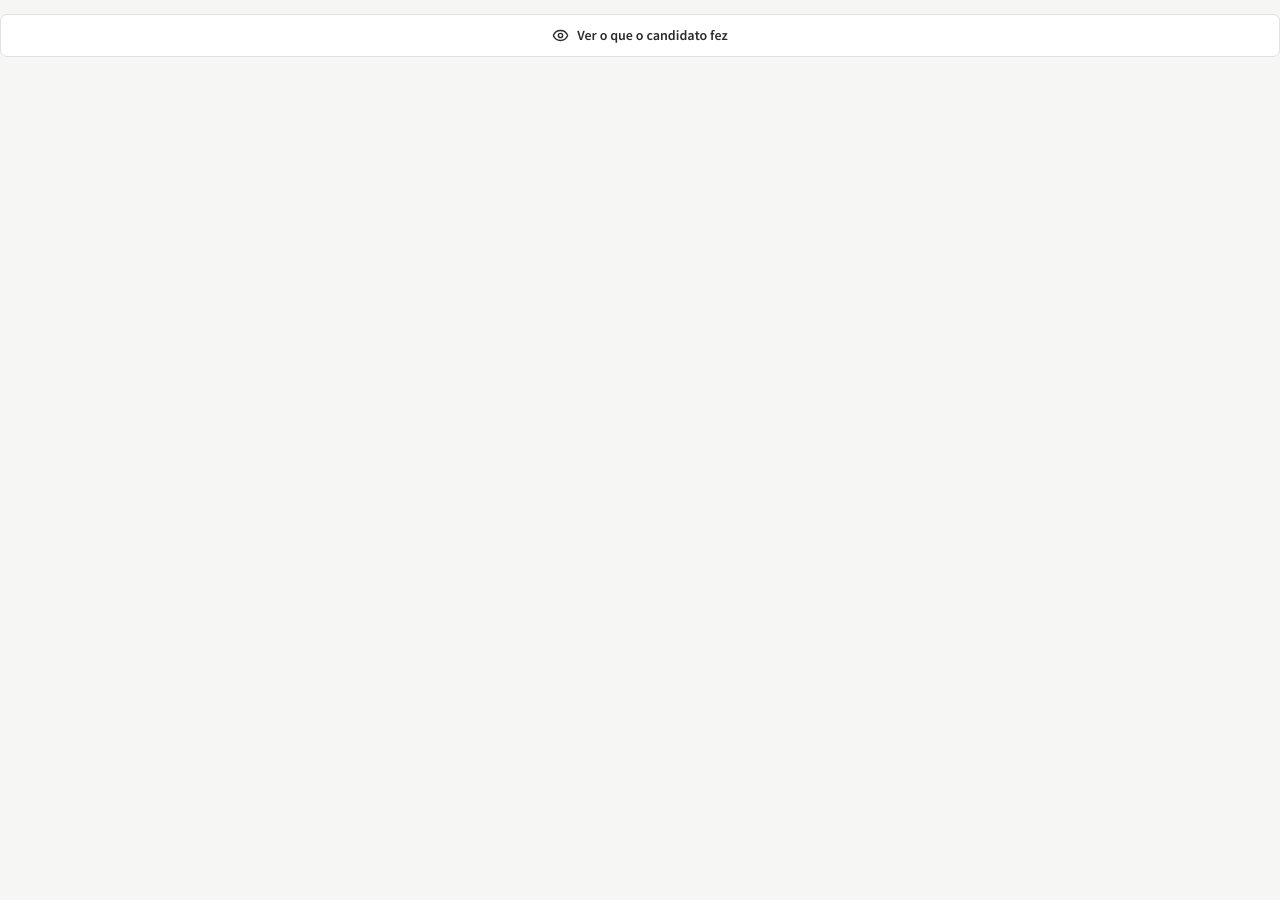
shows signed forms green and unanswered questions red with evidence buttons
Click the button "Ver o que o candidato fez".
click(640, 36)  # box [0,14,1279,57]
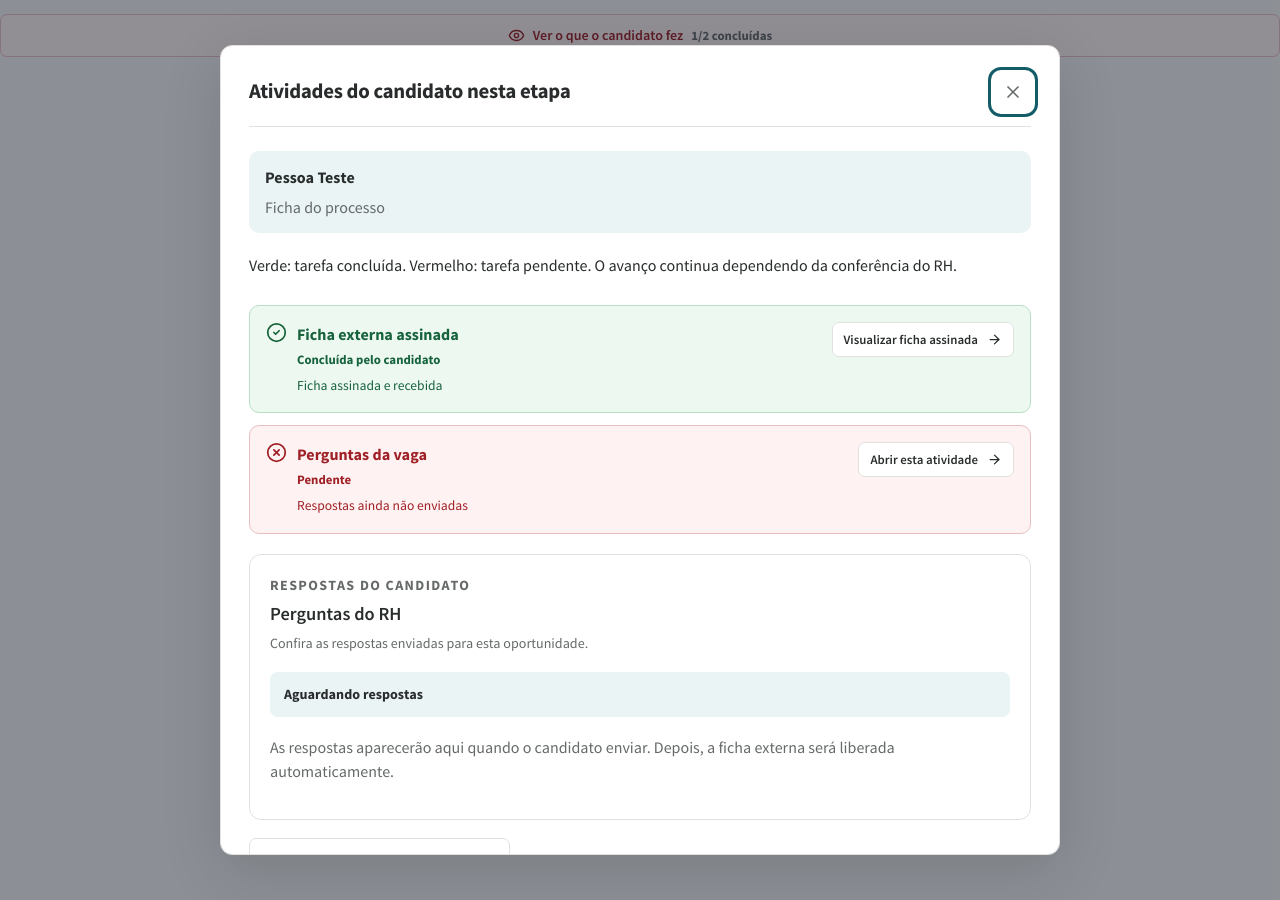
Check: the button "Visualizar ficha assinada" is shown, box [832,322,1014,357]
